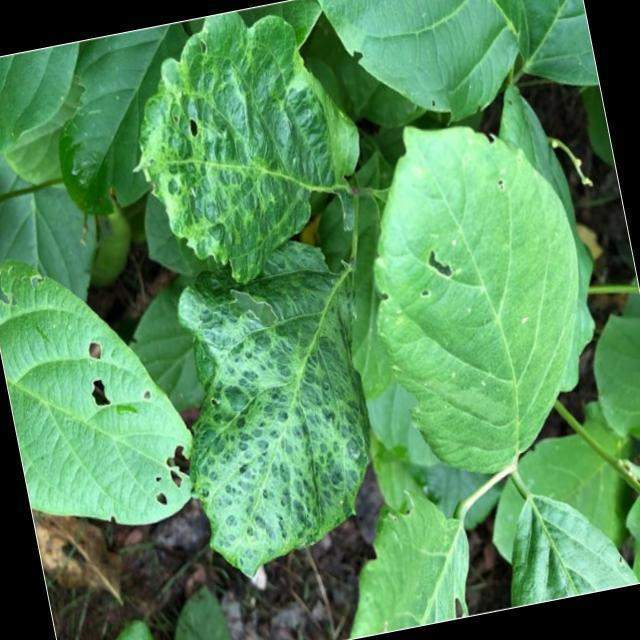Mosaic Virus: (174, 262, 385, 569), (146, 38, 354, 265)
